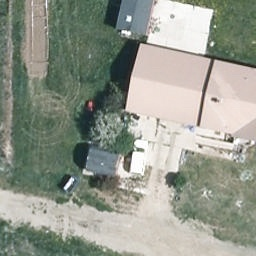car: (128, 137, 149, 180)
